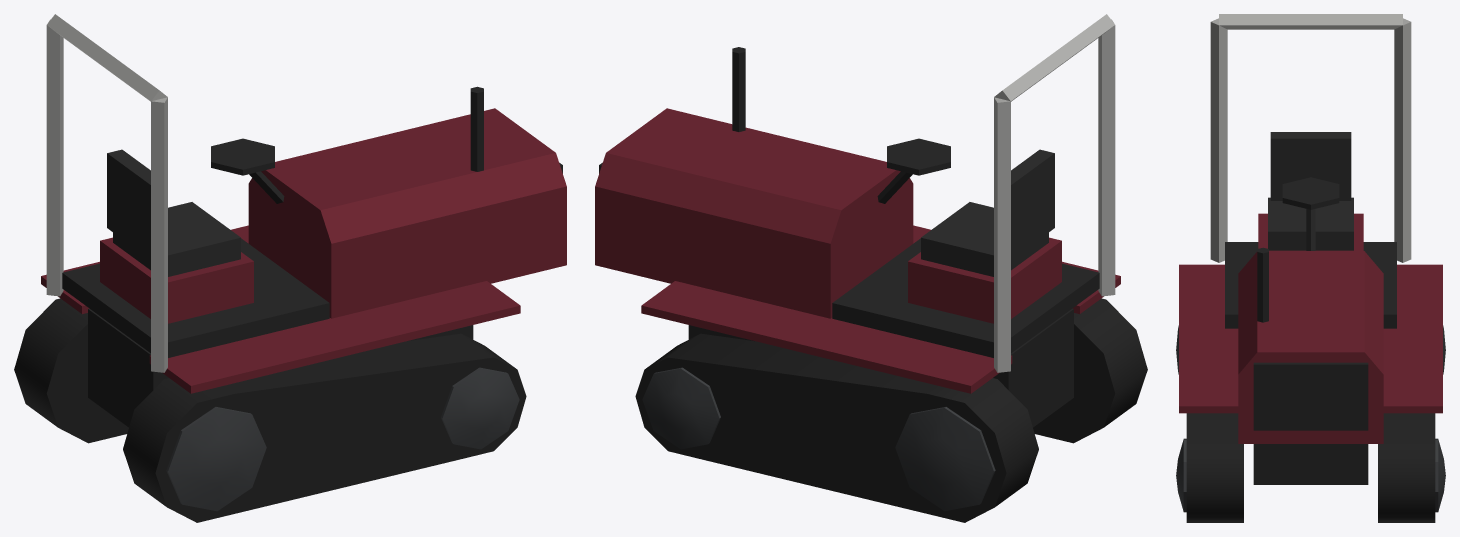
File: SM_Prop_farm_crawler_1_LOD1.glb
3 renders of one model, left to right at view 1: azimuth 30°, elevation 25°; view 2: azimuth 150°, elevation 25°; view 3: azimuth 270°, elevation 25°, orthographic. The views are drawn at different scales.
Visible parts, largest first — view 1: SM_Prop_farm_crawler_1_LOD1; view 2: SM_Prop_farm_crawler_1_LOD1; view 3: SM_Prop_farm_crawler_1_LOD1.
Boxes of the visible parts, box(x1,y1,x2,y2) form: SM_Prop_farm_crawler_1_LOD1: box(14, 14, 566, 522); SM_Prop_farm_crawler_1_LOD1: box(595, 14, 1147, 522); SM_Prop_farm_crawler_1_LOD1: box(1176, 14, 1445, 522).
Size of the model in its own units: 2.36 by 2.15 by 1.41.
